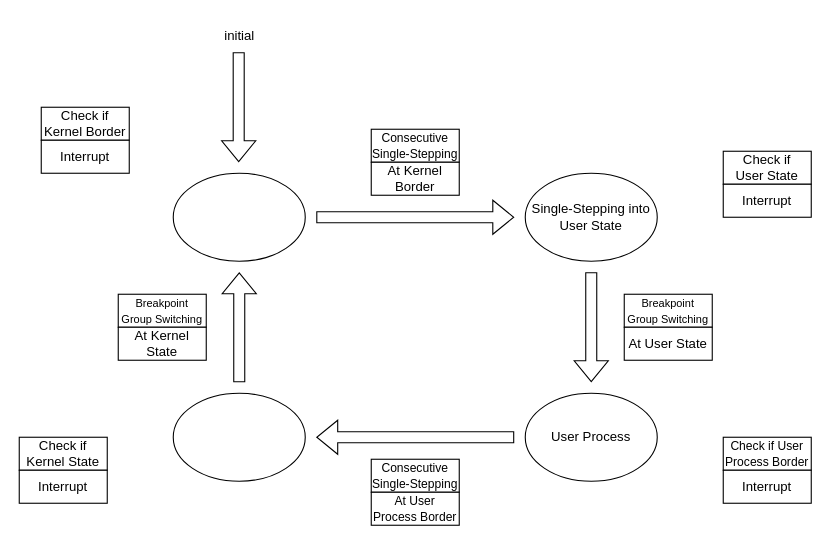
Some shapes in this 831 by 545 pixel diagram are drawn without their labels. The centre of each missing label's shape, as x and y in pixels:
Kernel: point 238,216
Single-Stepping into Kernel State: point 238,436
